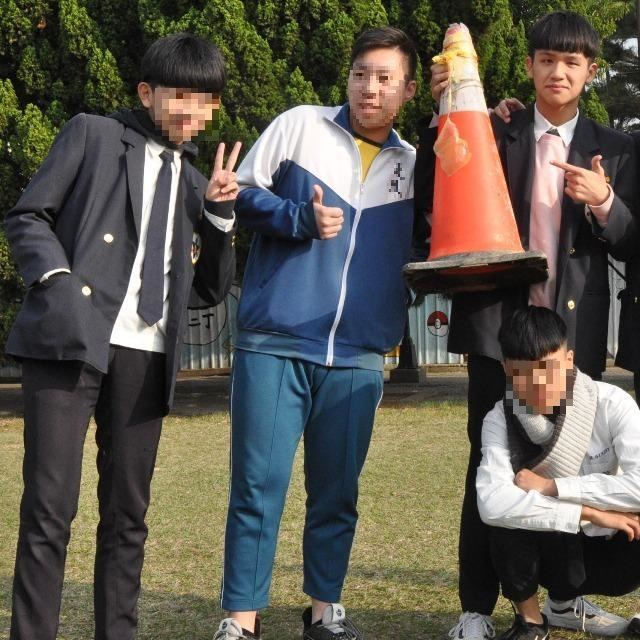NoHelmet: (139, 29, 226, 145), (498, 302, 577, 414), (522, 10, 608, 107), (342, 24, 419, 129)
